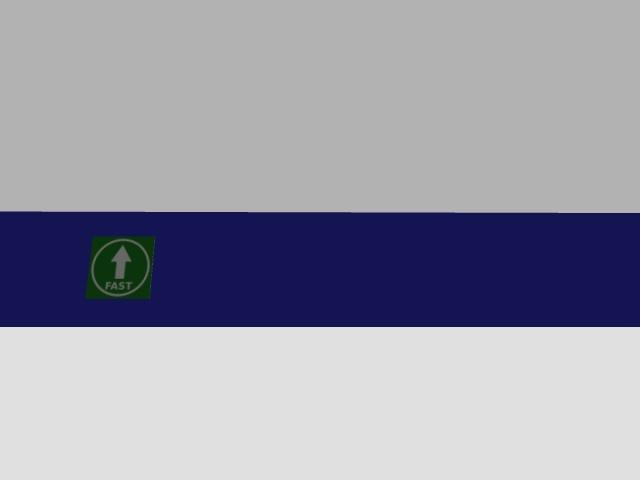fast: (86, 237, 154, 298)
